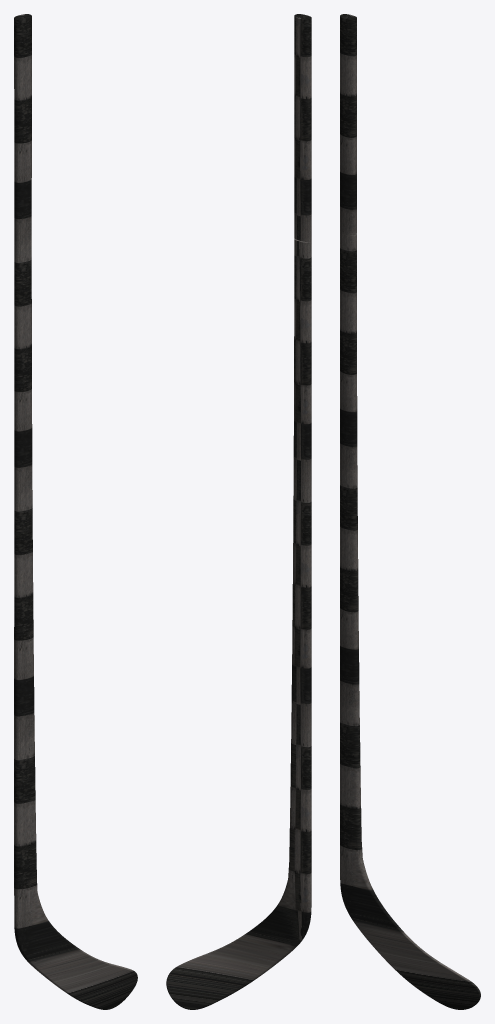
Rendered from P92-SBO-JR.glb.
The picture shows the model from 3 angles, left to right: view 1: azimuth 30°, elevation 25°; view 2: azimuth 150°, elevation 25°; view 3: azimuth 330°, elevation 25°; orthographic projection. The views are drawn at different scales.
Visible parts, largest first — view 1: geometry_0; view 2: geometry_0; view 3: geometry_0.
Boxes of the visible parts, left/top/right/bottom form: geometry_0: left=14, top=14, right=137, bottom=1009; geometry_0: left=166, top=14, right=311, bottom=1009; geometry_0: left=340, top=14, right=480, bottom=1009.
Bounding box in the file's own units: 227 × 1650 × 50.87.
1 material, 1 textured.
